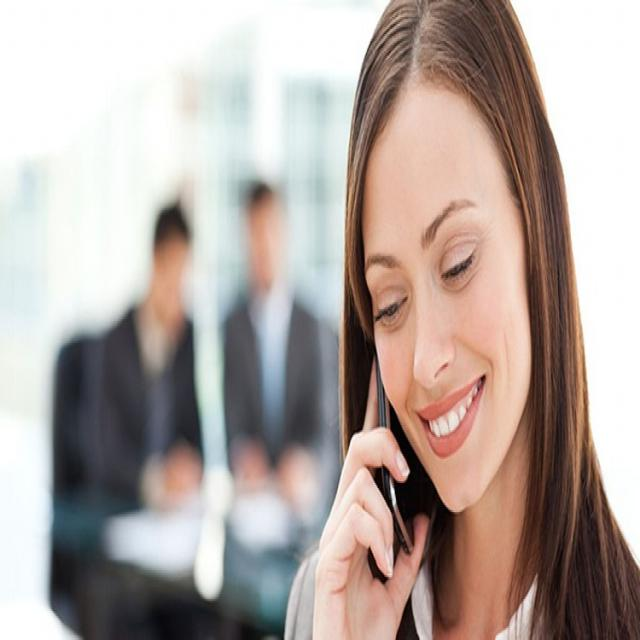phone: (336, 234, 440, 565)
